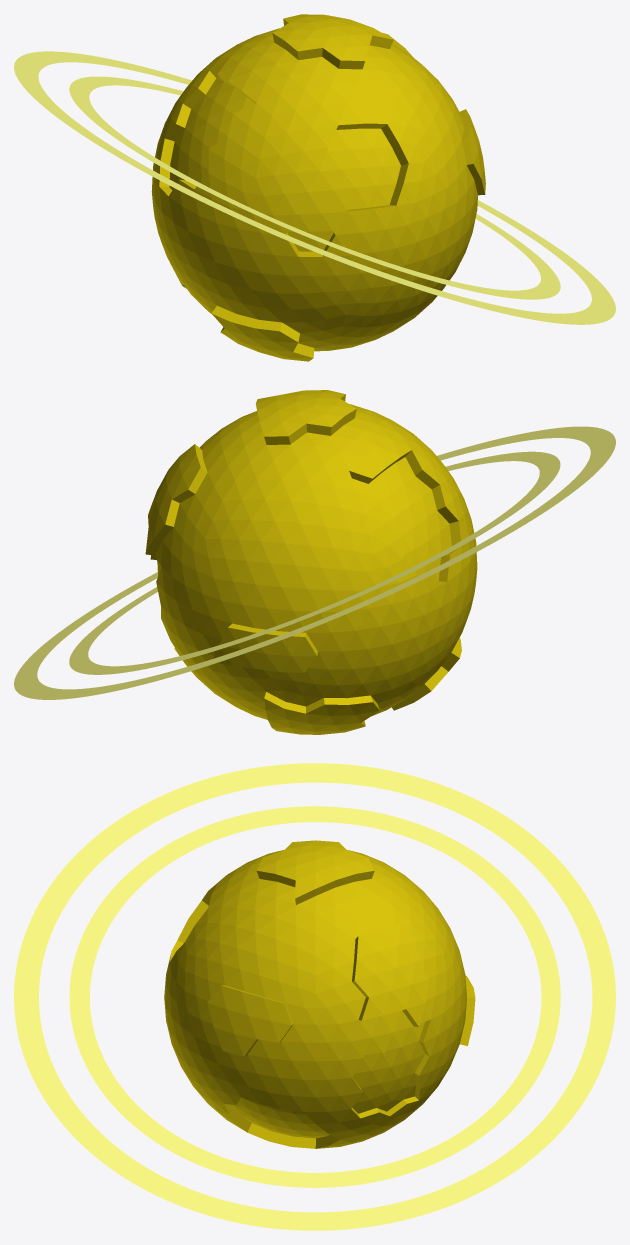
The model's file is intro_planet.glb.
3 renders of one model, top to bottom at view 1: azimuth 30°, elevation 25°; view 2: azimuth 150°, elevation 25°; view 3: azimuth 270°, elevation 25°, orthographic. The views are drawn at different scales.
Visible parts, largest first — view 1: Icosphere, Circle.001, Circle; view 2: Icosphere, Circle.001, Circle; view 3: Icosphere, Circle.001, Circle.
Boxes of the visible parts, left/top/right/bottom form: Icosphere: left=151, top=14, right=485, bottom=361; Circle.001: left=14, top=51, right=615, bottom=324; Circle: left=69, top=76, right=560, bottom=299; Icosphere: left=145, top=390, right=477, bottom=734; Circle.001: left=14, top=426, right=615, bottom=699; Circle: left=69, top=451, right=560, bottom=674; Icosphere: left=164, top=840, right=475, bottom=1148; Circle.001: left=14, top=763, right=615, bottom=1230; Circle: left=69, top=806, right=560, bottom=1187.
Size of the model in its own units: 3.57 by 2.07 by 3.98.
